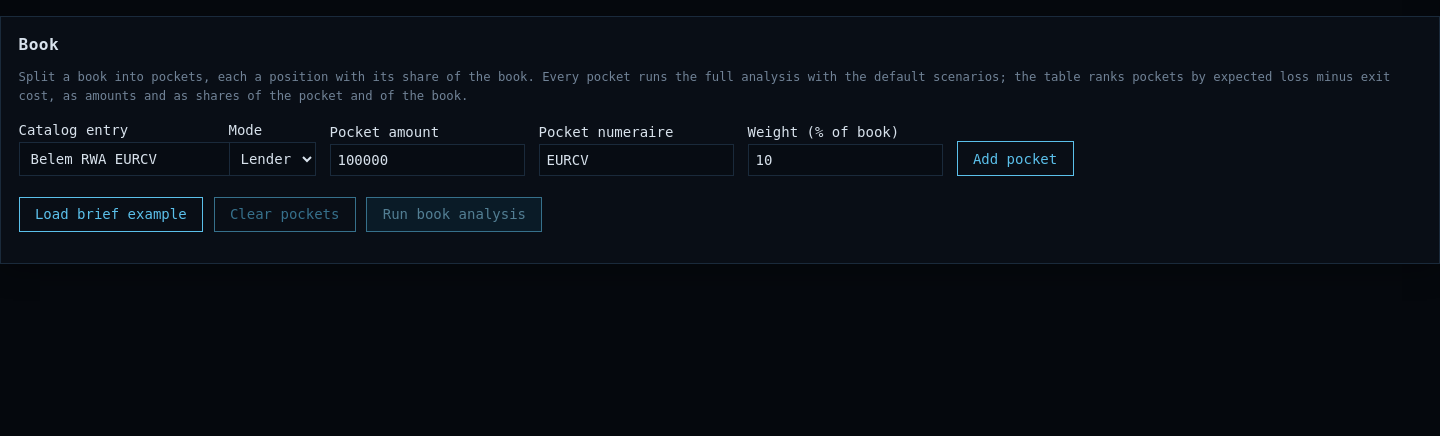
Test: BookPanel › validates pockets before adding them and keeps weights within the book
Replace the text in the field labelled "Weight (% of book)" with "0" at x=845, y=160, box 748,144 -> 942,176
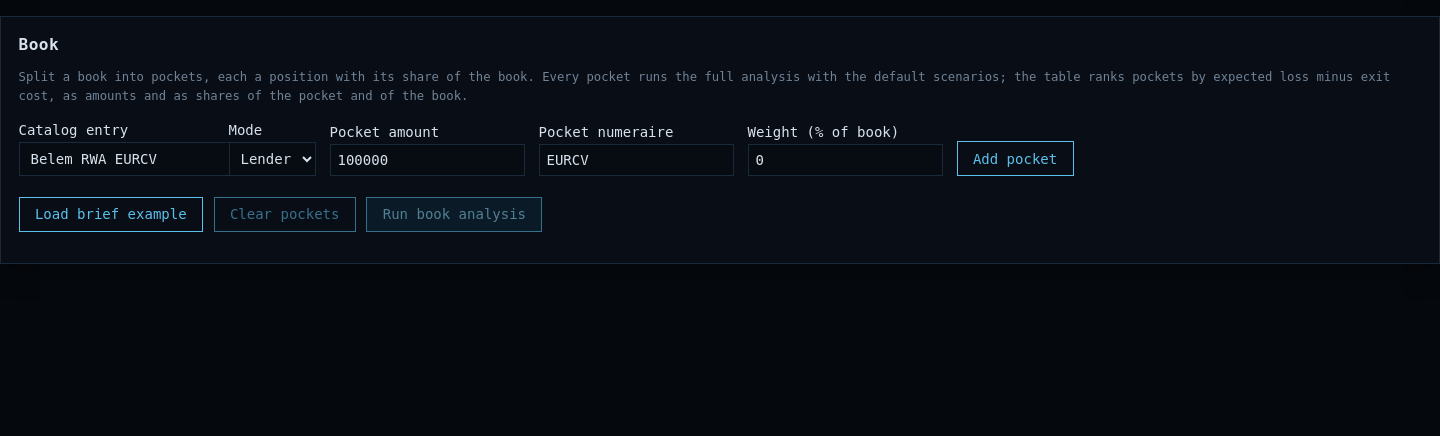
Click the button "Add pocket" at x=1015, y=159, box 956,141 -> 1074,176
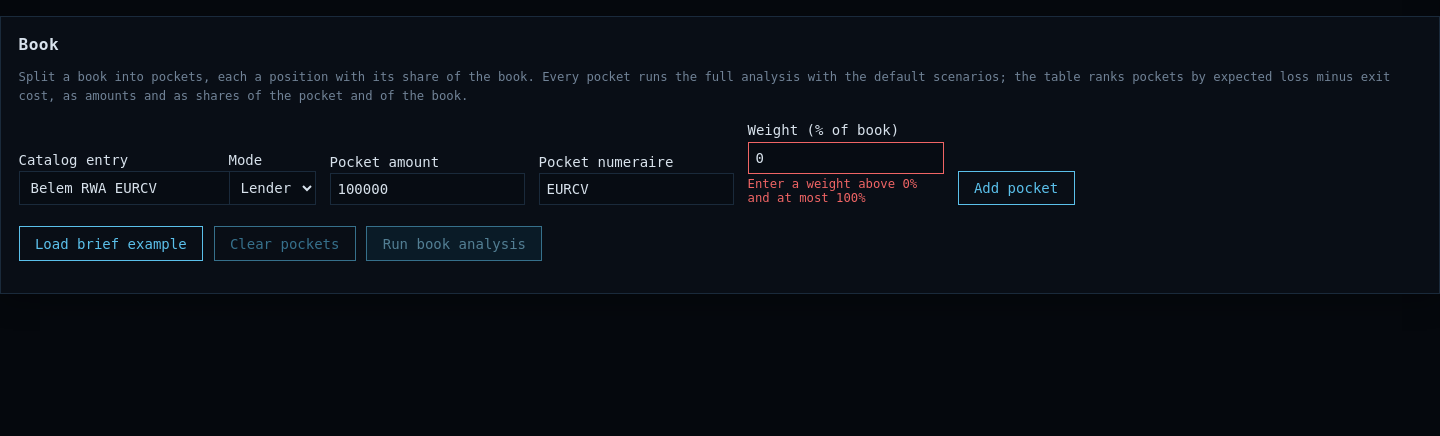
Expected: the text "Enter a weight above 0% and at most 100%" is shown, 748,177 -> 944,205
Replace the text in the field labelled "Weight (% of book)" with "60" at x=846, y=158, box 748,142 -> 944,174
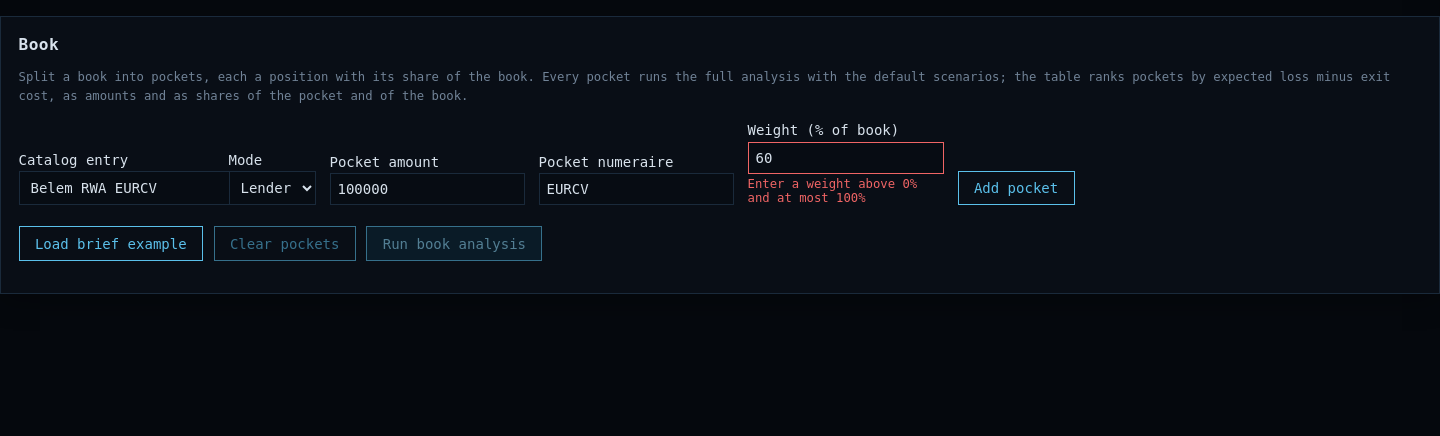
Click the button "Add pocket" at x=1016, y=188, box 958,171 -> 1075,206
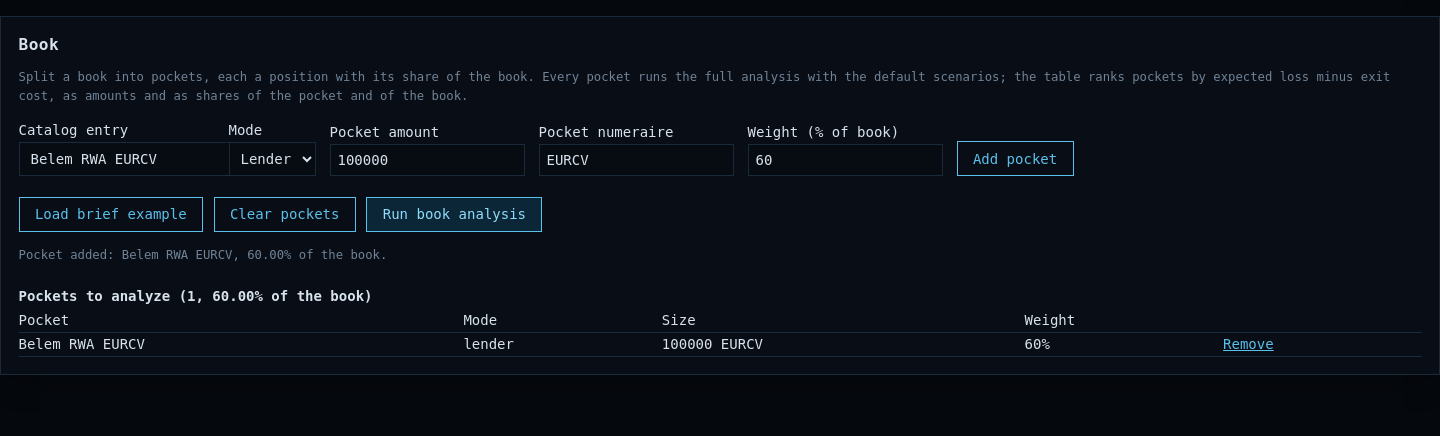
Expected: the table "Pockets to analyze (1, 60.00% of the book)" is shown, 18,288 -> 1422,357
Click the button "Add pocket" at x=1015, y=159, box 956,141 -> 1074,176
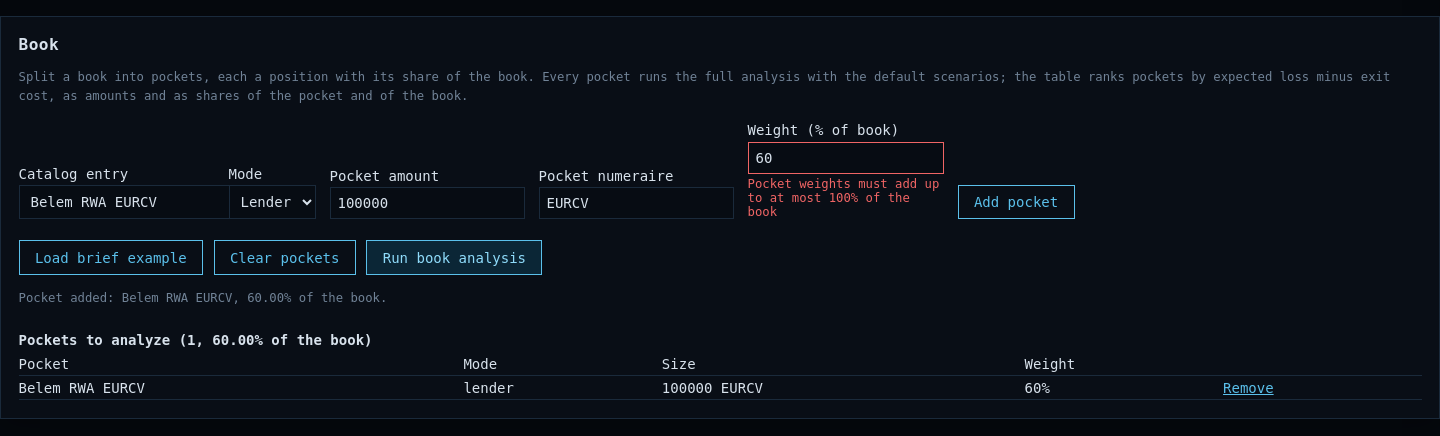
Expected: the text "Pocket weights must add up to at most 100% of the book" is shown, 748,177 -> 944,219
Click the button with aria-label "Remove pocket Belem RWA EURCV (60%)" at x=1248, y=388, box 1223,380 -> 1274,396
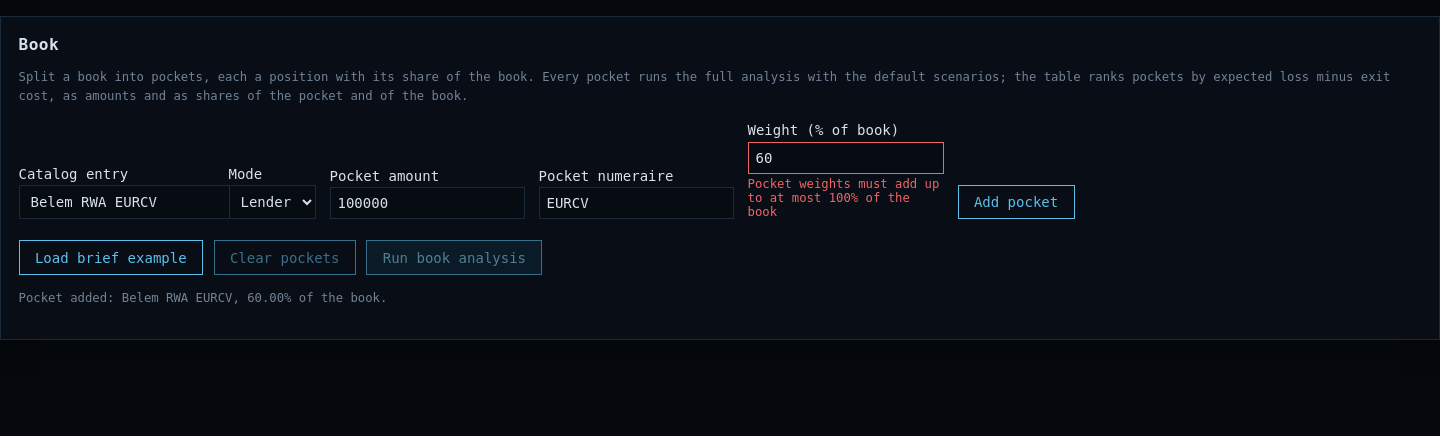
Expected: the text "Pockets to analyze" is gone
